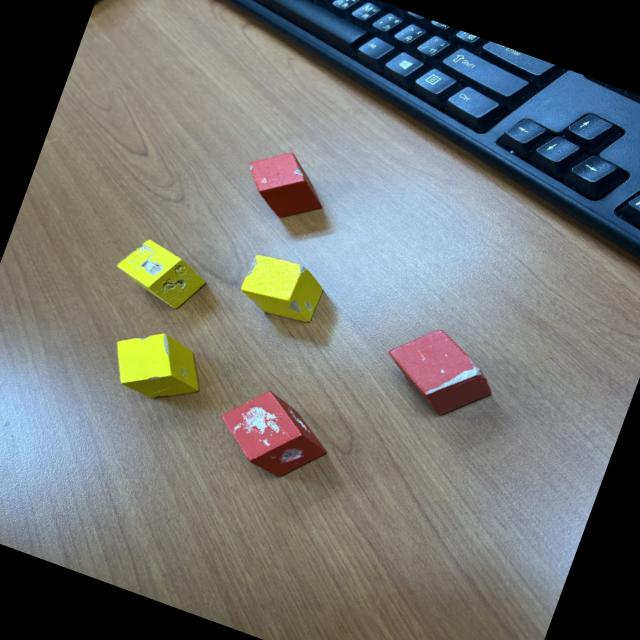broken: (373, 315, 508, 432), (209, 378, 344, 492), (102, 319, 214, 413), (236, 140, 339, 234), (110, 232, 214, 318), (233, 248, 329, 332)
